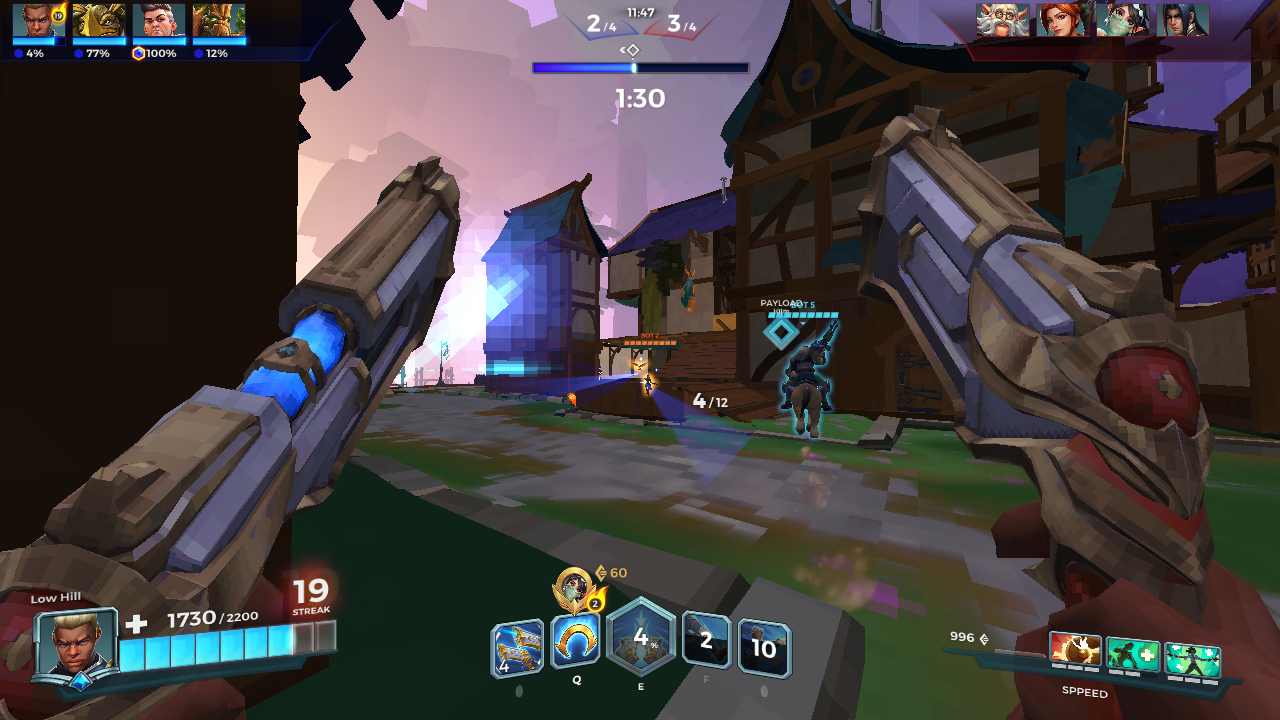model: (640, 370, 658, 395)
